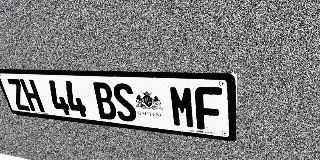4: (61, 81, 88, 117), (45, 80, 71, 115)
B: (91, 82, 118, 120)
F: (194, 86, 222, 132)
H: (19, 79, 45, 112)
M: (168, 85, 196, 129)
S: (111, 83, 138, 123)
Z: (6, 78, 31, 111)
